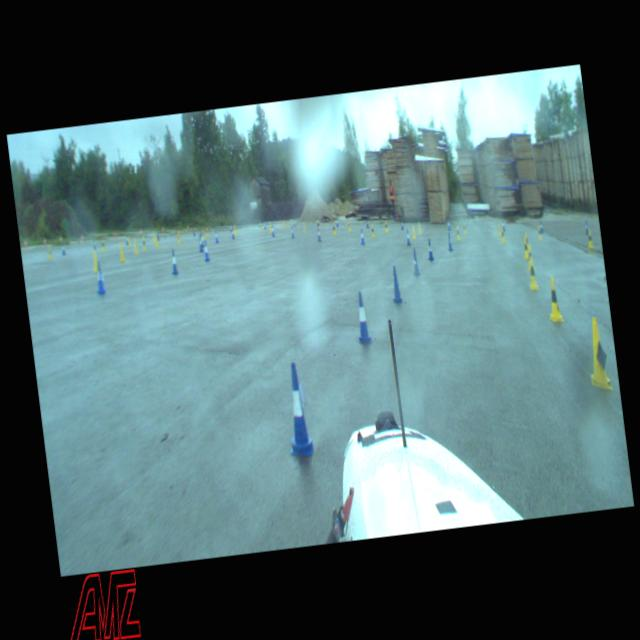blue_cone: (279, 361, 315, 456), (353, 292, 370, 341), (389, 266, 402, 302), (93, 262, 105, 294), (410, 248, 420, 276), (201, 240, 210, 262), (168, 250, 176, 272), (425, 239, 433, 259), (358, 227, 366, 244), (446, 230, 452, 250), (404, 228, 410, 245), (60, 241, 66, 255), (584, 218, 589, 234), (230, 224, 235, 239), (198, 234, 202, 252), (91, 236, 96, 250), (316, 228, 321, 241), (214, 226, 218, 242), (364, 216, 369, 228), (500, 217, 504, 231), (290, 225, 294, 238), (192, 223, 196, 236), (447, 218, 451, 230), (539, 220, 543, 231), (124, 233, 128, 244), (262, 218, 266, 229), (271, 224, 274, 236), (401, 221, 404, 230), (335, 218, 338, 226)
orange_cone: (23, 237, 28, 250), (42, 236, 48, 245), (59, 234, 63, 246), (160, 222, 164, 234), (140, 226, 144, 237), (80, 232, 84, 242), (186, 220, 190, 230), (113, 229, 117, 238)
yellow_cone: (583, 317, 612, 394), (544, 277, 564, 323), (526, 258, 538, 290), (521, 236, 530, 260), (90, 249, 98, 272), (586, 230, 593, 248), (118, 242, 125, 260), (132, 238, 138, 255), (525, 234, 530, 251), (455, 225, 460, 241), (536, 224, 541, 240), (500, 226, 505, 242), (370, 223, 375, 238), (100, 238, 105, 252), (416, 222, 422, 233), (141, 237, 146, 250), (411, 226, 416, 239), (383, 220, 388, 233), (331, 222, 336, 234), (316, 218, 321, 230), (126, 236, 131, 248), (48, 247, 52, 260), (497, 224, 501, 237), (233, 225, 237, 238), (152, 233, 157, 243), (462, 222, 466, 234), (154, 236, 158, 248), (302, 222, 306, 234), (206, 225, 210, 236), (177, 230, 180, 244), (347, 222, 351, 232), (259, 220, 262, 232), (268, 224, 272, 232), (282, 220, 285, 228), (202, 228, 204, 238), (296, 220, 298, 228)
